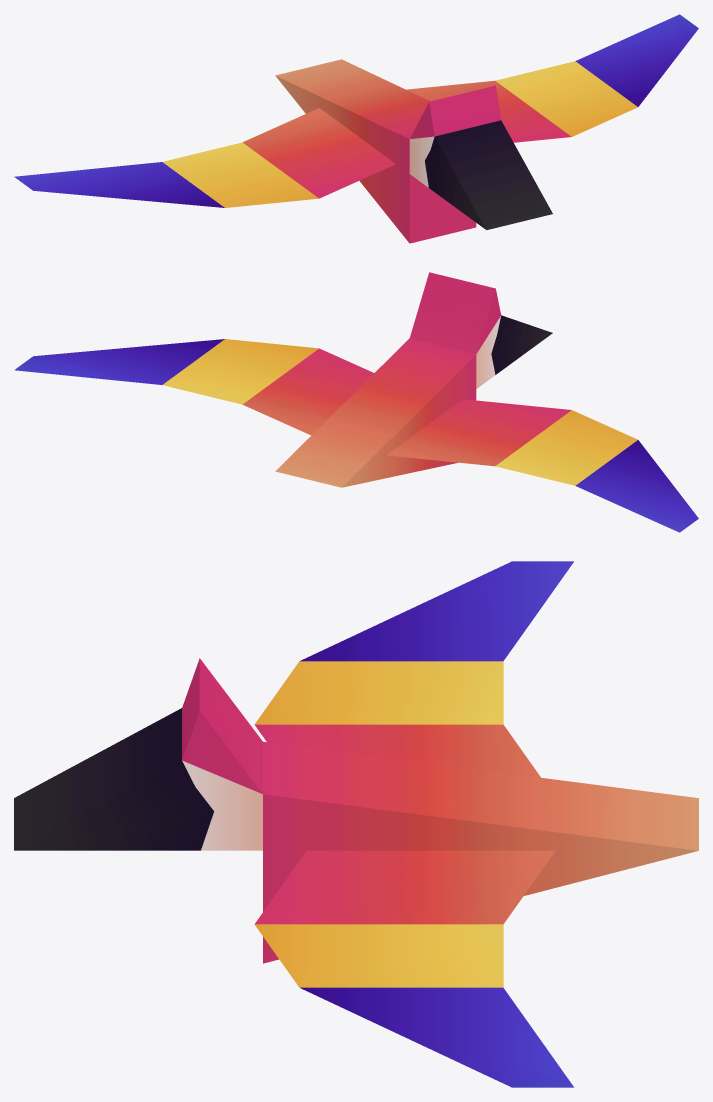
File: bird.glb
The picture shows the model from 3 angles, top to bottom: view 1: azimuth 30°, elevation 25°; view 2: azimuth 150°, elevation 25°; view 3: azimuth 270°, elevation 25°; orthographic projection. The views are drawn at different scales.
Visible parts, largest first — view 1: Plane.003; view 2: Plane.003; view 3: Plane.003.
Boxes of the visible parts, x1,y1,x2,y2 form: Plane.003: (14,14,698,243); Plane.003: (14,272,698,532); Plane.003: (14,561,698,1087).
Bounding box in the file's own units: 2 × 0.4483 × 1.1.
Materials: 1 (1 with a texture image).
